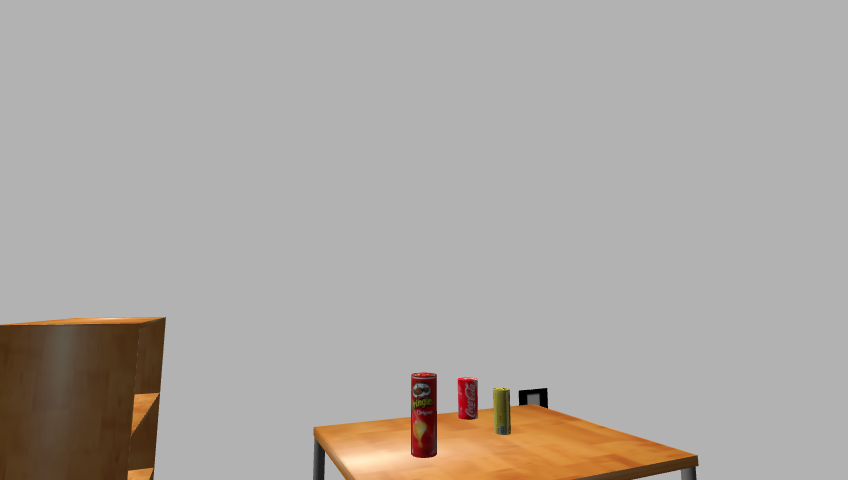aruco marker: (513, 387, 552, 412)
biscuits pack: (494, 387, 513, 436)
bookshelf: (0, 316, 173, 480)
coke can: (456, 377, 479, 420)
dinner table: (304, 403, 706, 479)
pringles can: (408, 372, 440, 460)
